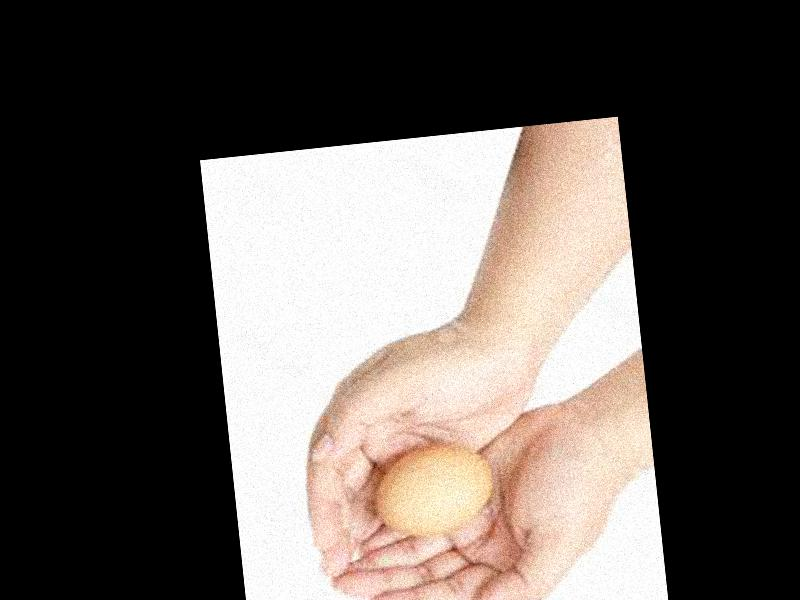Eggs: (373, 439, 494, 538)
